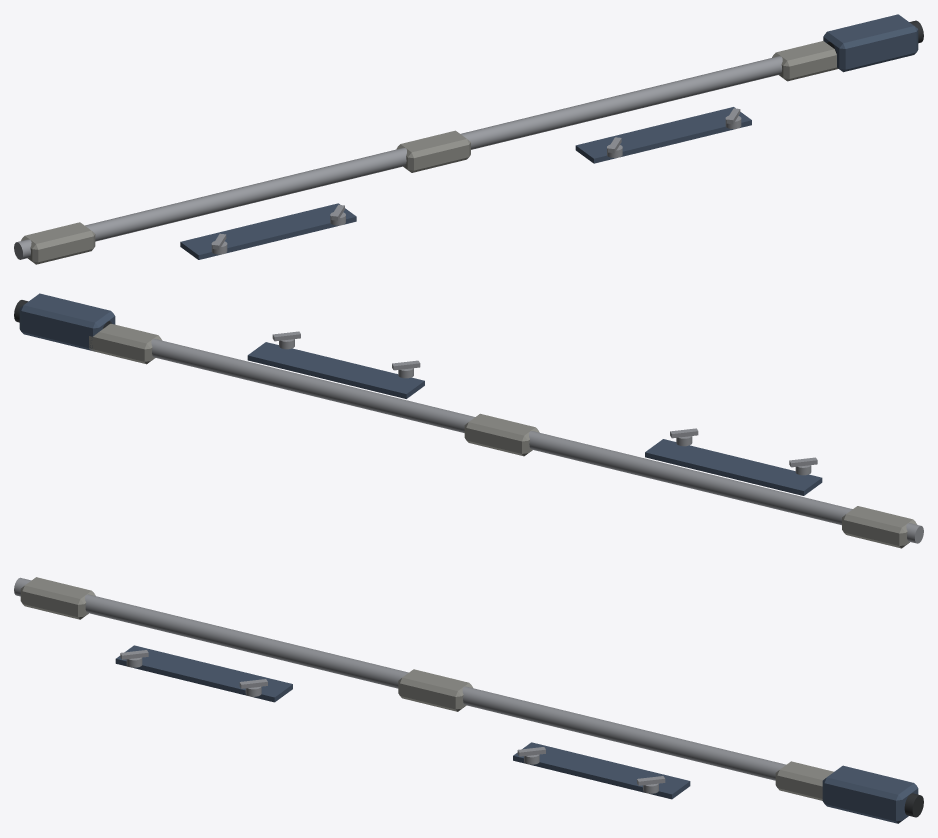
Rendered from rs50s_hinge.obj.
3 views of the same model, one above another, from view 1: azimuth 30°, elevation 25°; view 2: azimuth 150°, elevation 25°; view 3: azimuth 330°, elevation 25° (orthographic).
Visible parts, largest first — view 1: rs50s_hinge; view 2: rs50s_hinge; view 3: rs50s_hinge.
Boxes of the visible parts, x1,y1,x2,y2 form: rs50s_hinge: [14, 14, 923, 264]; rs50s_hinge: [14, 293, 923, 548]; rs50s_hinge: [14, 577, 923, 823].
Bounding box in the file's own units: 4.54 × 0.14 × 0.498.
